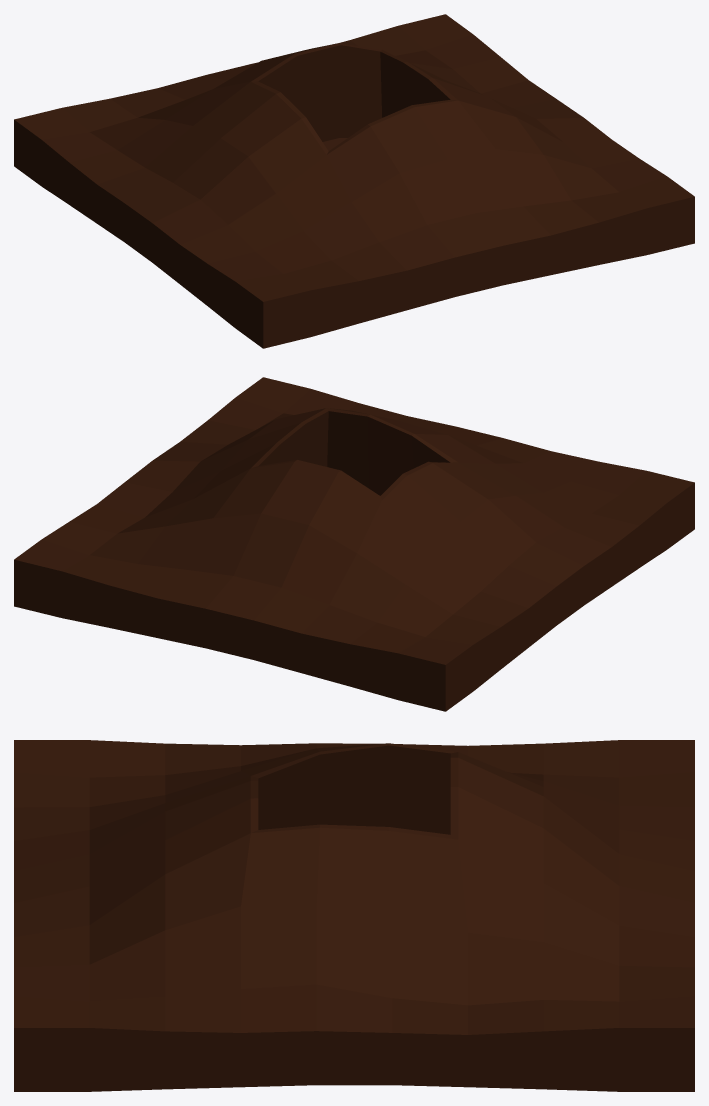
The model's file is obj_molemound_portal.fbx.
3 renders of one model, top to bottom at view 1: azimuth 30°, elevation 25°; view 2: azimuth 150°, elevation 25°; view 3: azimuth 270°, elevation 25°, orthographic. The views are drawn at different scales.
Parts seen in each view (by area): view 1: obj_MoleMound-Portal; view 2: obj_MoleMound-Portal; view 3: obj_MoleMound-Portal.
Boxes of the visible parts, box(x1,y1,x2,y2) form: obj_MoleMound-Portal: box(14, 14, 694, 348); obj_MoleMound-Portal: box(14, 377, 694, 711); obj_MoleMound-Portal: box(14, 740, 694, 1091).
Bounding box in the file's own units: 401 × 114 × 401.
